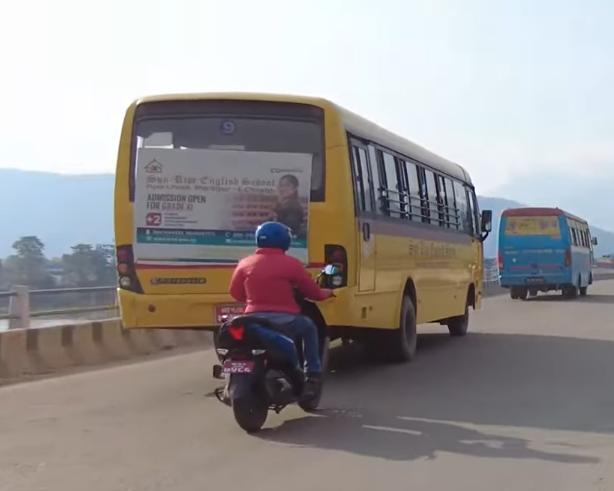bus: (498, 204, 599, 305)
school_bus: (112, 84, 498, 383)
scooter: (208, 294, 327, 434)
